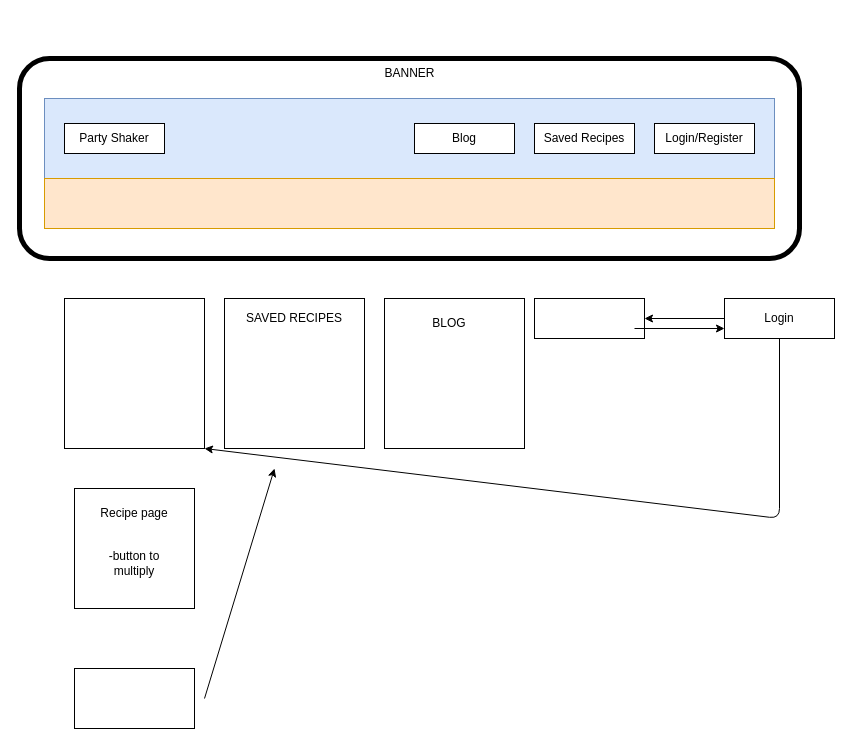
Some shapes in this 852 by 746 pixel diagram are drawn without their labels. The shapes that lost their labels are listed below. From the top down, each one's centre as x and y in pixels, then its label:
At point 409,203: "Picture of cocktails".
At point 589,318: "Register".
At point 134,373: "HOME PAGE - inputs for cocktails - popular recipes".
At point 134,698: "Multiplied Cocktail -button to save to favorites".
